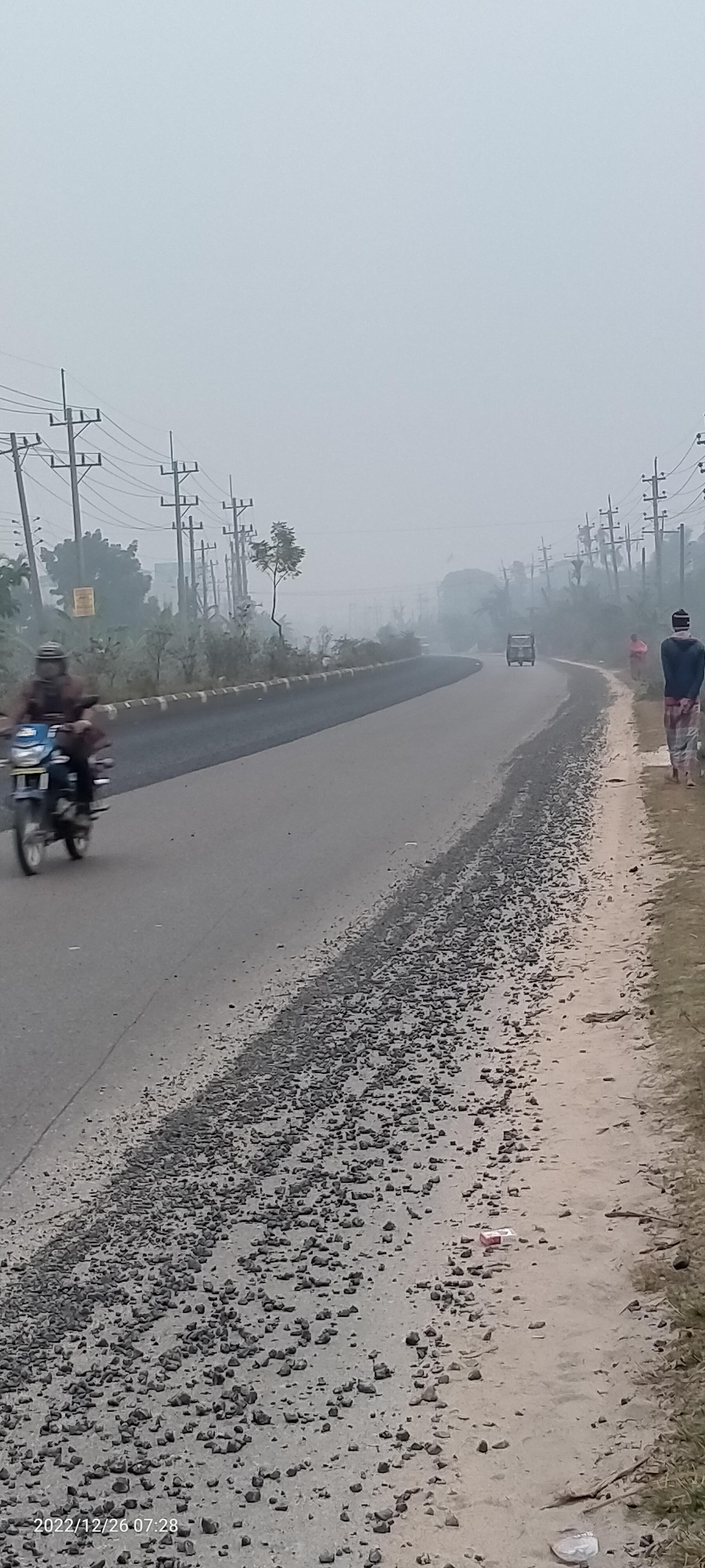Bike: (5, 639, 119, 890)
